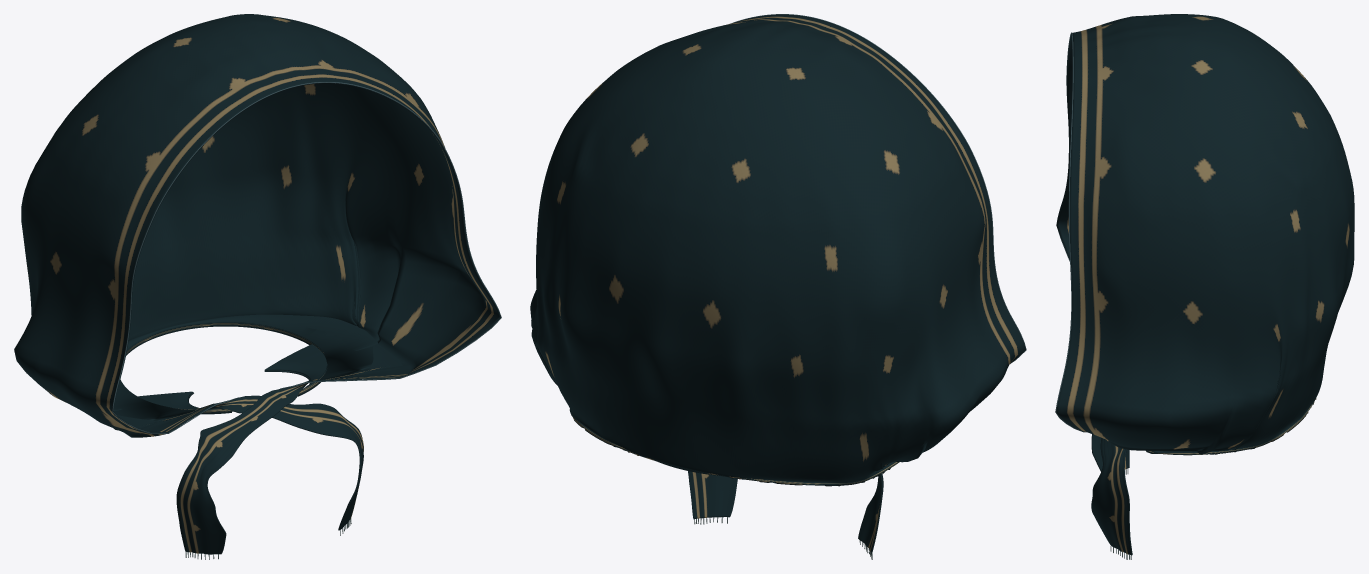
The model's file is Feminine-straight-tank-pashmina249-headgear.glb.
The picture shows the model from 3 angles, left to right: view 1: azimuth 30°, elevation 25°; view 2: azimuth 150°, elevation 25°; view 3: azimuth 270°, elevation 25°; orthographic projection. The views are drawn at different scales.
Visible parts, largest first — view 1: 226 headgear / Headwear / continuous woven pashmina239, 226 headgear / Headwear / face edge239; view 2: 226 headgear / Headwear / continuous woven pashmina239, 226 headgear / Headwear / face edge239; view 3: 226 headgear / Headwear / continuous woven pashmina239, 226 headgear / Headwear / face edge239.
Part boxes in pixels (bbox=[...]): 226 headgear / Headwear / continuous woven pashmina239: bbox=[14, 14, 500, 554]; 226 headgear / Headwear / face edge239: bbox=[112, 82, 501, 434]; 226 headgear / Headwear / continuous woven pashmina239: bbox=[530, 14, 1025, 553]; 226 headgear / Headwear / face edge239: bbox=[730, 14, 1026, 363]; 226 headgear / Headwear / continuous woven pashmina239: bbox=[1056, 14, 1354, 555]; 226 headgear / Headwear / face edge239: bbox=[1055, 32, 1085, 432].
Bounding box in the file's own units: 1.25 × 1.41 × 0.7803.
Materials: 3 (1 with a texture image).
